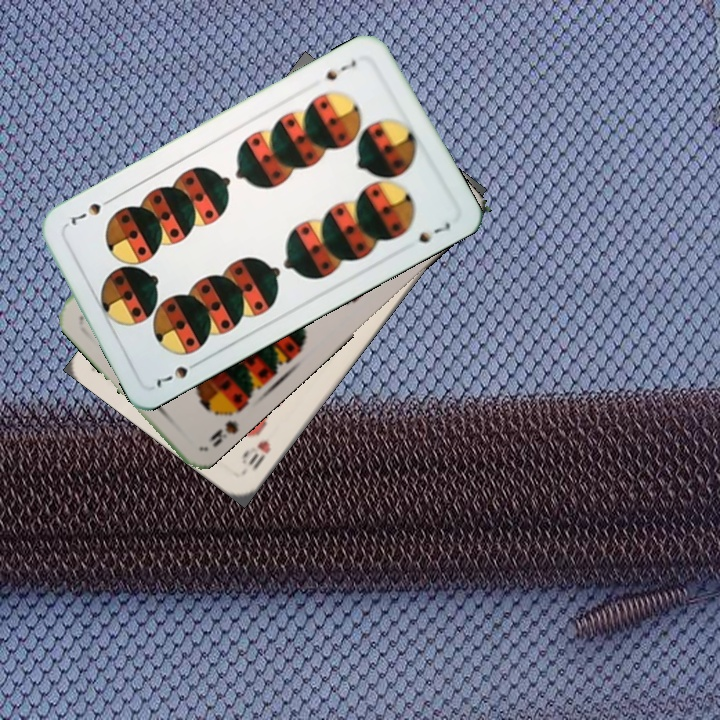H10: (237, 436, 274, 473)
S7: (150, 356, 204, 391), (321, 55, 359, 83)
S9: (204, 399, 246, 450)
